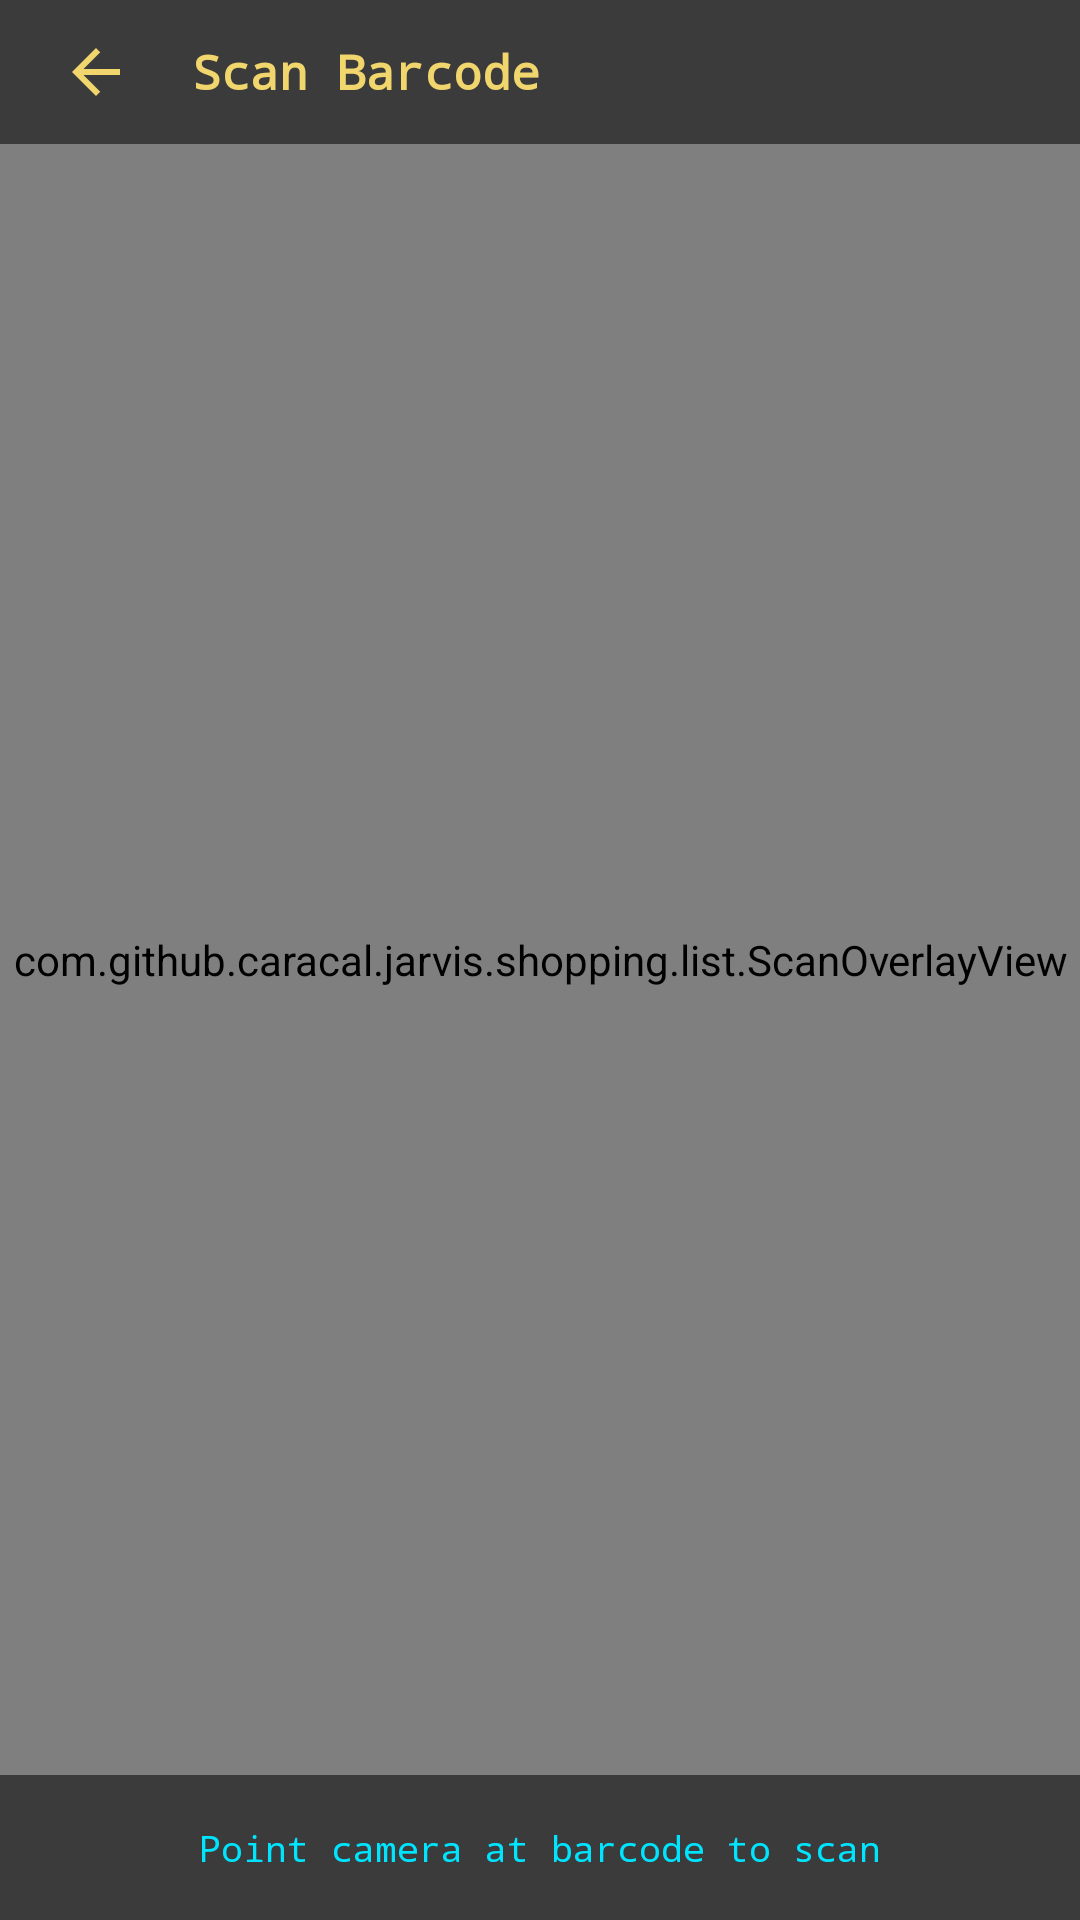

Icons on this 1080px x 1920px Android screen, each with its box as (x1, y1, x2, y2):
Back: (72, 48, 120, 96)
